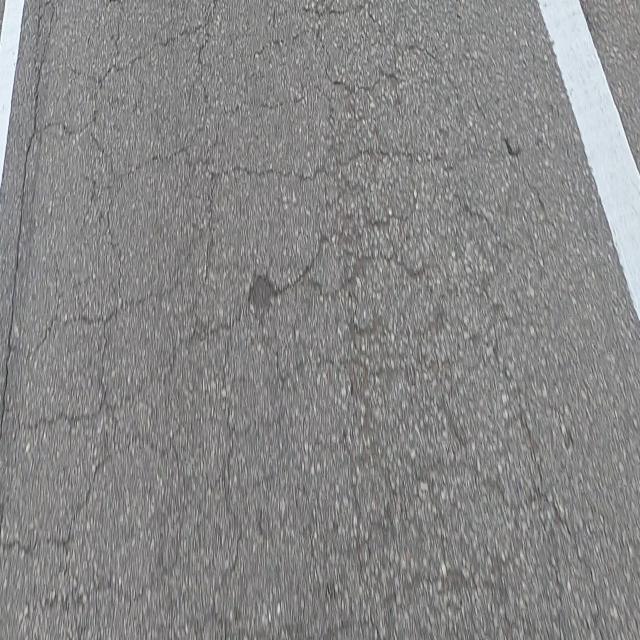Retak-Buaya: (0, 4, 594, 632)
